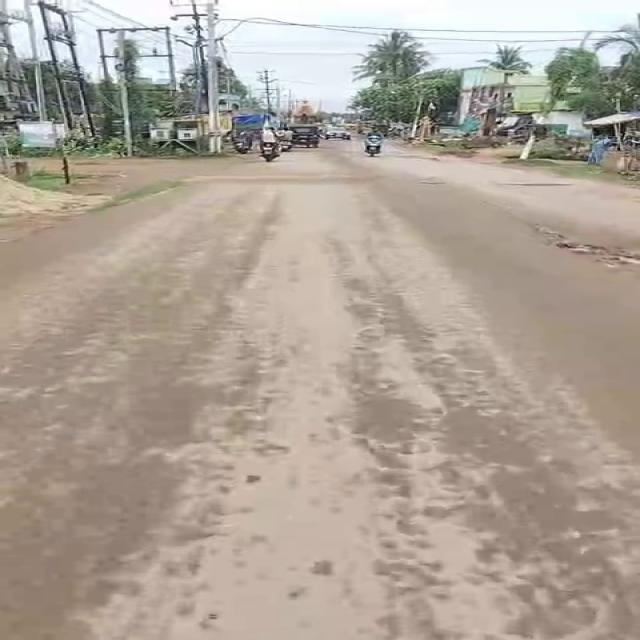pothole: (558, 238, 640, 272), (503, 180, 571, 189), (417, 178, 447, 186)
